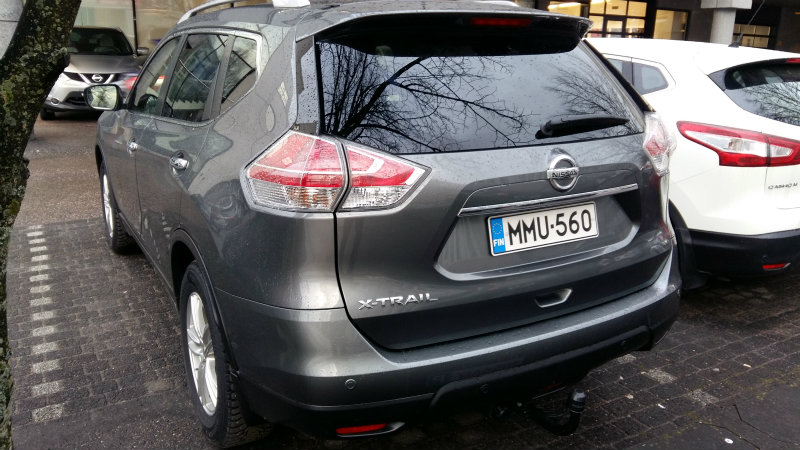license: (484, 201, 599, 265)
